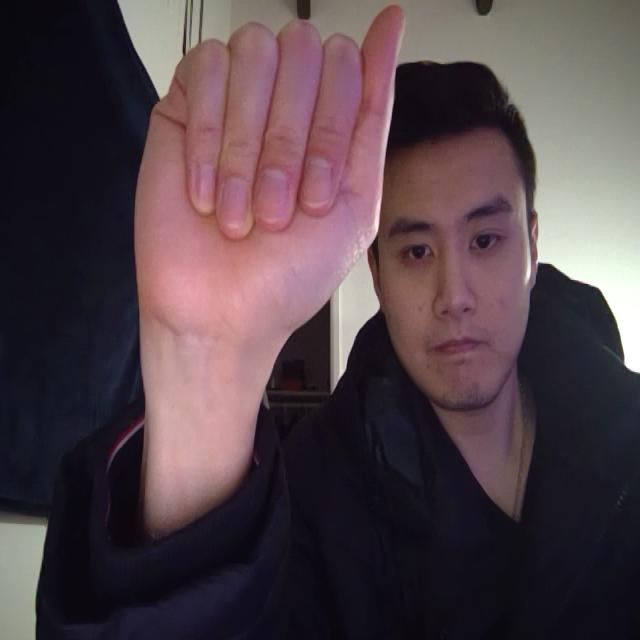A: (106, 3, 425, 466)
